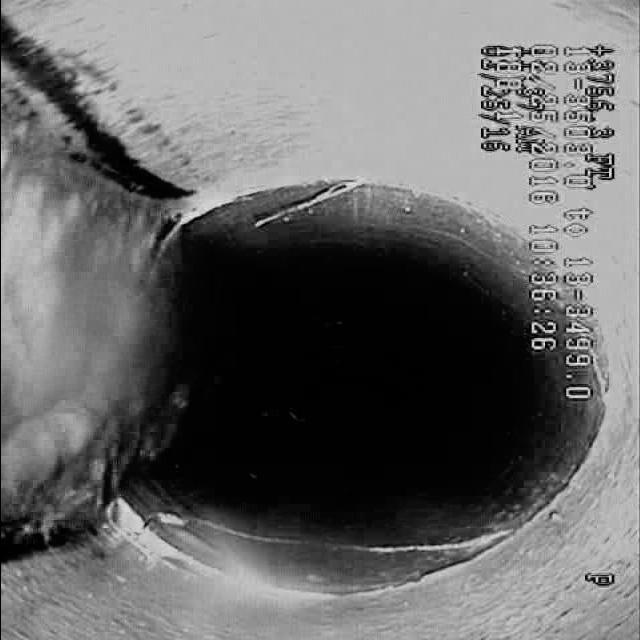Crack: (158, 518, 510, 565), (251, 180, 375, 238)
